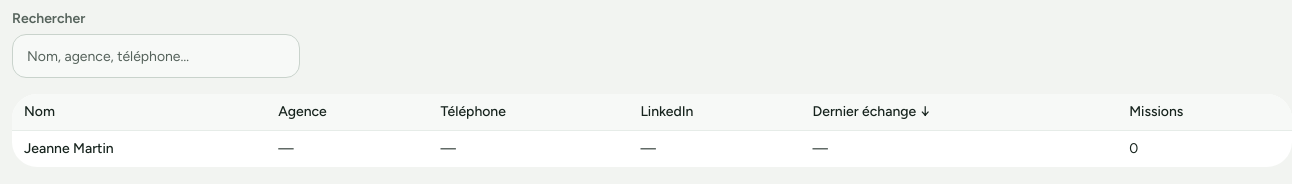
Test: ContactsTable › tells when no contact matches the search
Type "zzz" into the search field labelled "Rechercher".
click(156, 56); type("zzz")  # box x1=12 y1=34 x2=300 y2=78
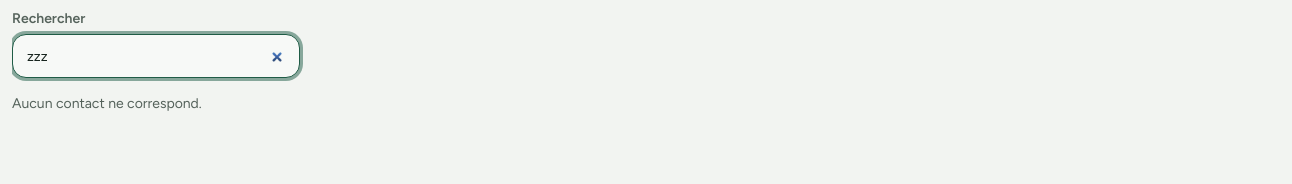
Check: the text "Aucun contact ne correspond." is shown, box x1=12 y1=95 x2=202 y2=112
